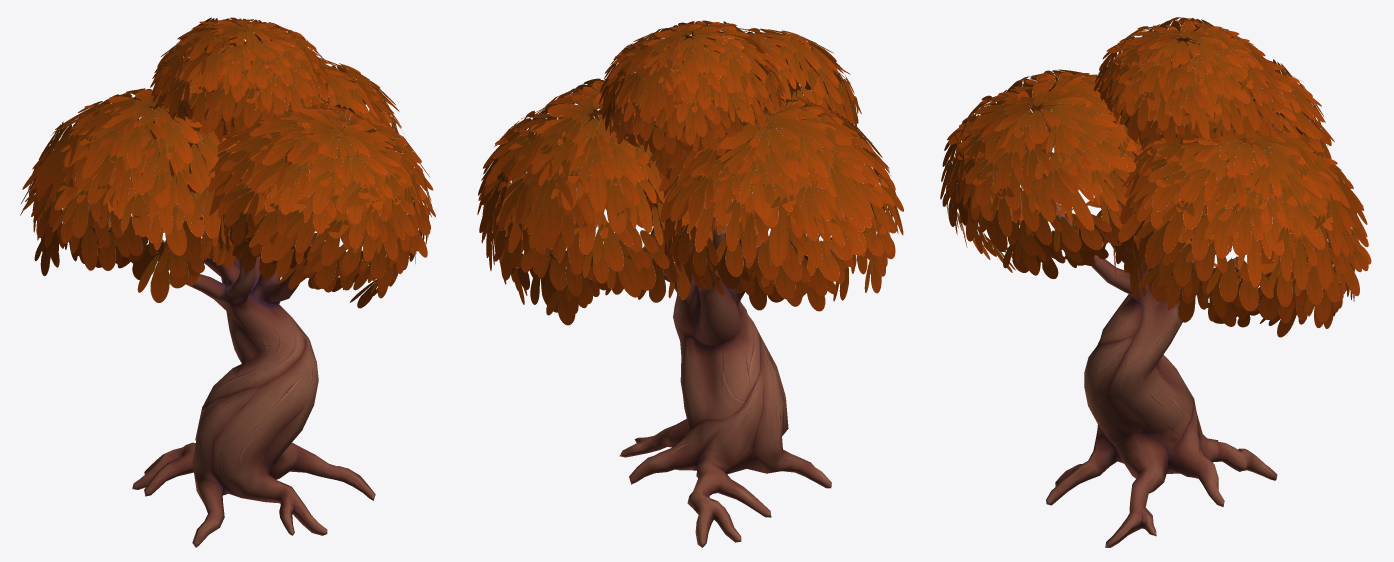
File: Tree02.glb
3 views of the same model, side by side, from view 1: azimuth 30°, elevation 25°; view 2: azimuth 150°, elevation 25°; view 3: azimuth 270°, elevation 25° (orthographic).
Visible parts, largest first — view 1: Leaves, Trunk; view 2: Leaves, Trunk; view 3: Leaves, Trunk.
Boxes of the visible parts, x1=… form: Leaves: x1=20, y1=17, x2=435, y2=308; Trunk: x1=132, y1=193, x2=375, y2=547; Leaves: x1=477, y1=20, x2=903, y2=325; Trunk: x1=597, y1=217, x2=831, y2=547; Leaves: x1=940, y1=17, x2=1371, y2=337; Trunk: x1=1046, y1=202, x2=1277, y2=547.
Bounding box in the file's own units: 8.33 × 9.63 × 8.11.
2 materials, 2 textured.
